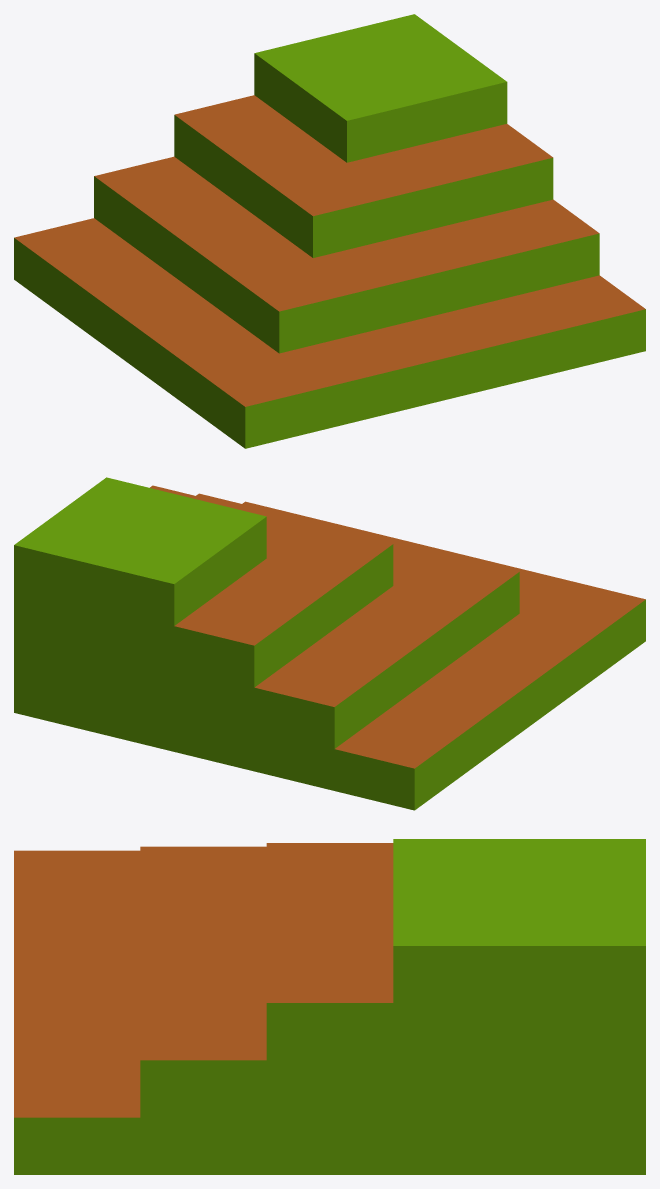
File: TileGround_32.fbx
The picture shows the model from 3 angles, top to bottom: view 1: azimuth 30°, elevation 25°; view 2: azimuth 150°, elevation 25°; view 3: azimuth 270°, elevation 25°; orthographic projection. The views are drawn at different scales.
Visible parts, largest first — view 1: TileGround_32; view 2: TileGround_32; view 3: TileGround_32.
Boxes of the visible parts, bbox=[...] form: TileGround_32: bbox=[14, 14, 645, 448]; TileGround_32: bbox=[14, 477, 645, 810]; TileGround_32: bbox=[14, 839, 645, 1174].
Bounding box in the file's own units: 500 × 200 × 500.
